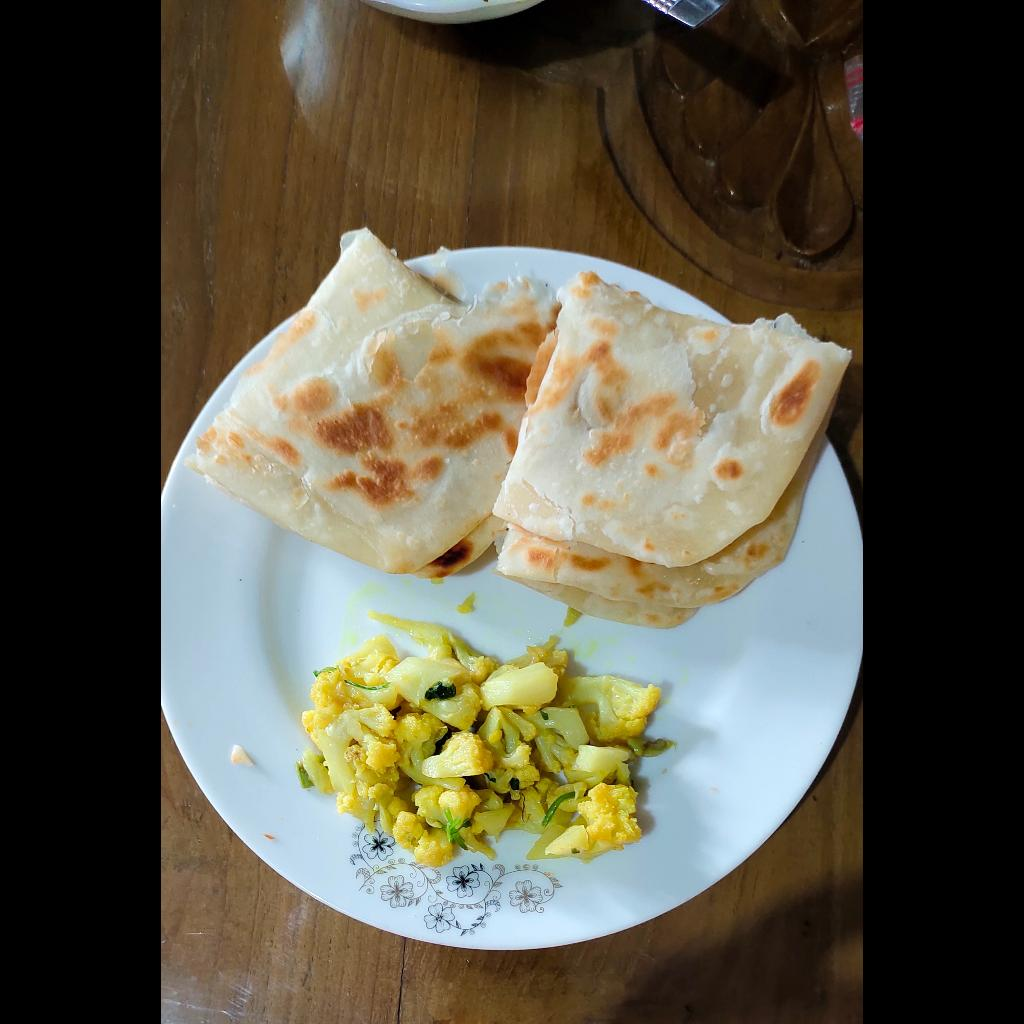cauliflower: (298, 605, 672, 870)
ruti: (185, 228, 851, 631)
